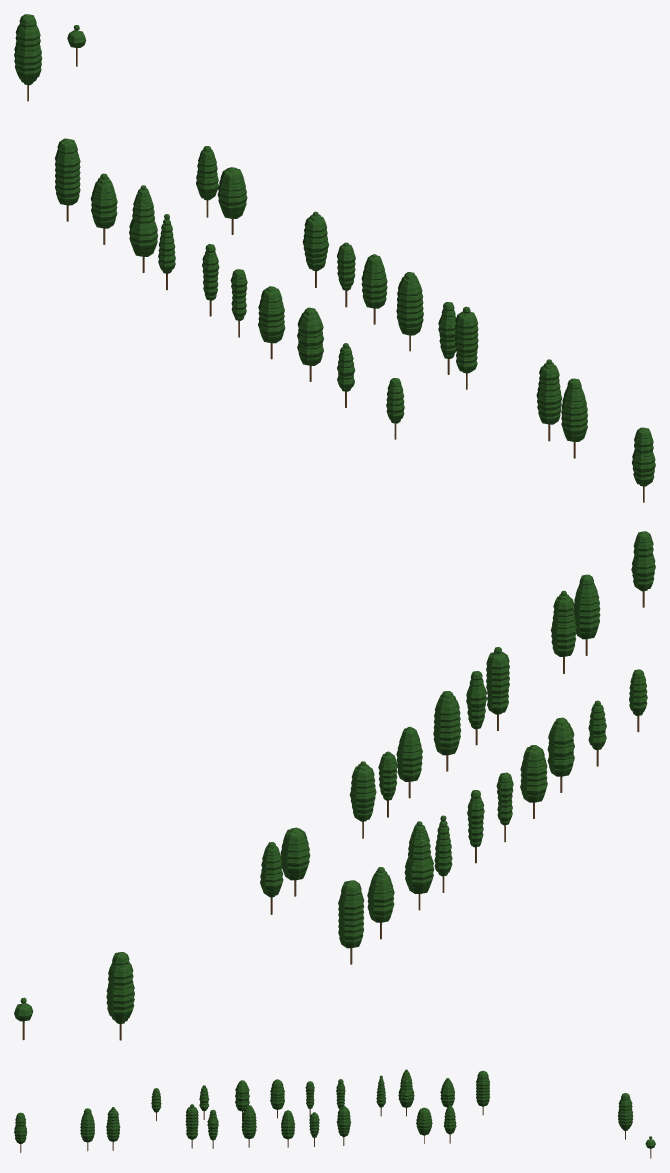
Rendered from tree_0_-2.glb.
The picture shows the model from 3 angles, top to bottom: view 1: azimuth 30°, elevation 25°; view 2: azimuth 150°, elevation 25°; view 3: azimuth 270°, elevation 25°; orthographic projection. The views are drawn at different scales.
Bounding box in the file's own units: 33.8 × 15.19 × 189.
Materials: 2 (2 with a texture image).
